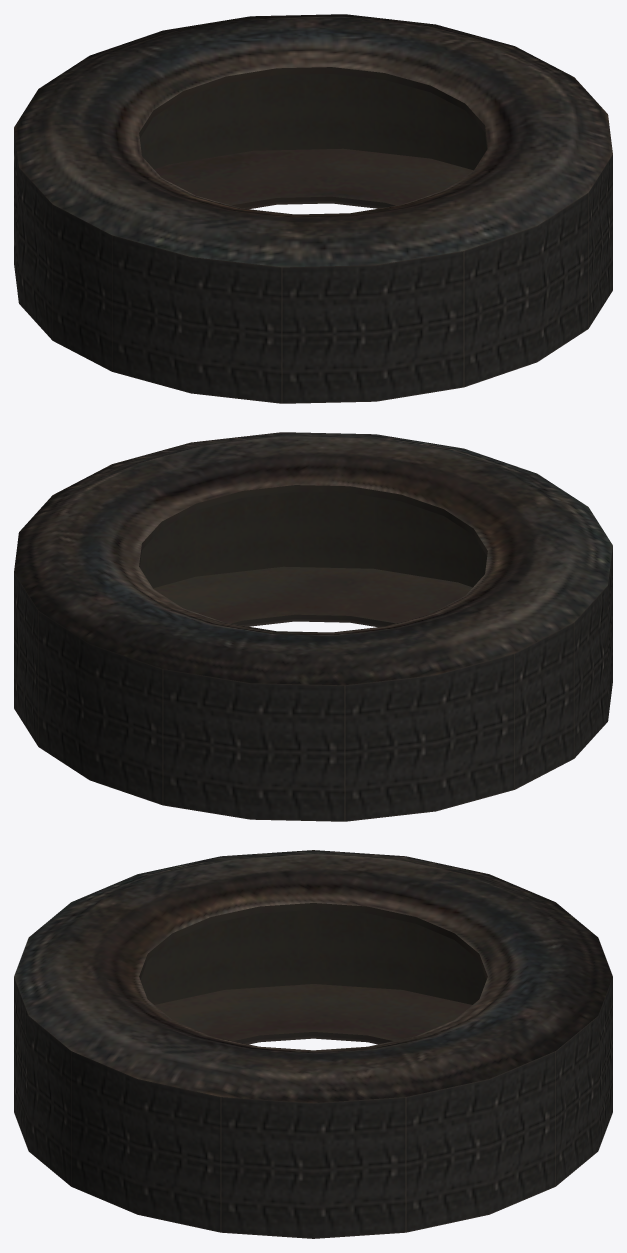
Rendered from tire_2.obj.
3 views of the same model, one above another, from view 1: azimuth 30°, elevation 25°; view 2: azimuth 150°, elevation 25°; view 3: azimuth 270°, elevation 25° (orthographic).
Visible parts, largest first — view 1: tire_2; view 2: tire_2; view 3: tire_2.
Part boxes in pixels (box(x1,y1,x2,y2)): tire_2: box(14, 14, 612, 403); tire_2: box(14, 432, 612, 821); tire_2: box(14, 850, 612, 1238).
Size of the model in its own units: 0.64 by 0.1893 by 0.64.
